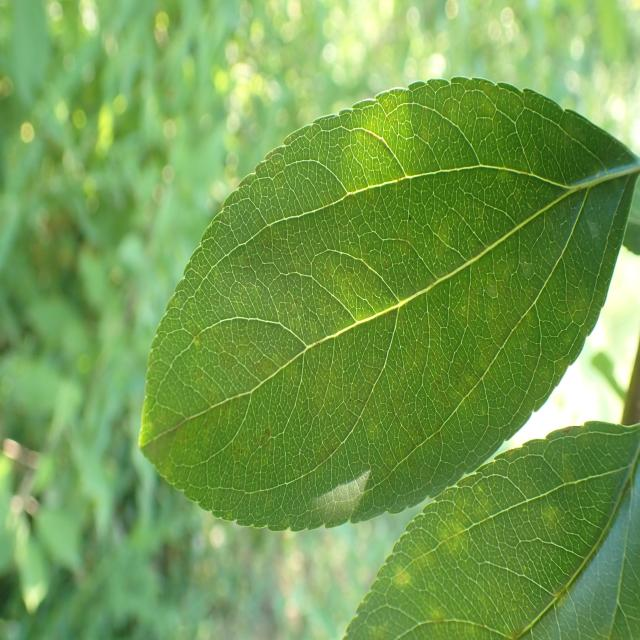scab: (143, 194, 602, 489), (350, 486, 637, 638)
